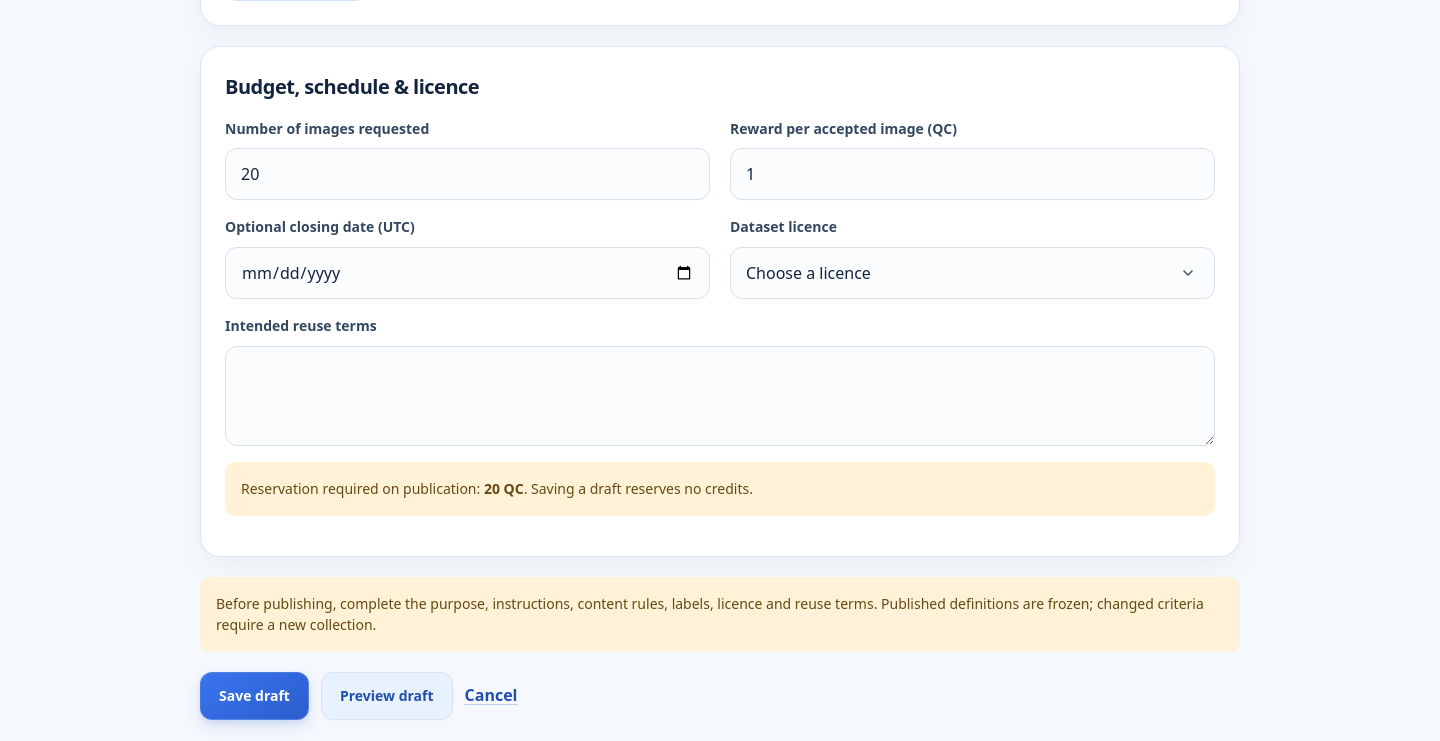
Test: edits with the expected version and displays backend funding errors
The image size is (1440, 741).
(page scrolled)
What coordinates should you click on to do the following:
click the button "Save draft"
I would click on:
 (254, 696)
Its box is [200, 672, 309, 720].
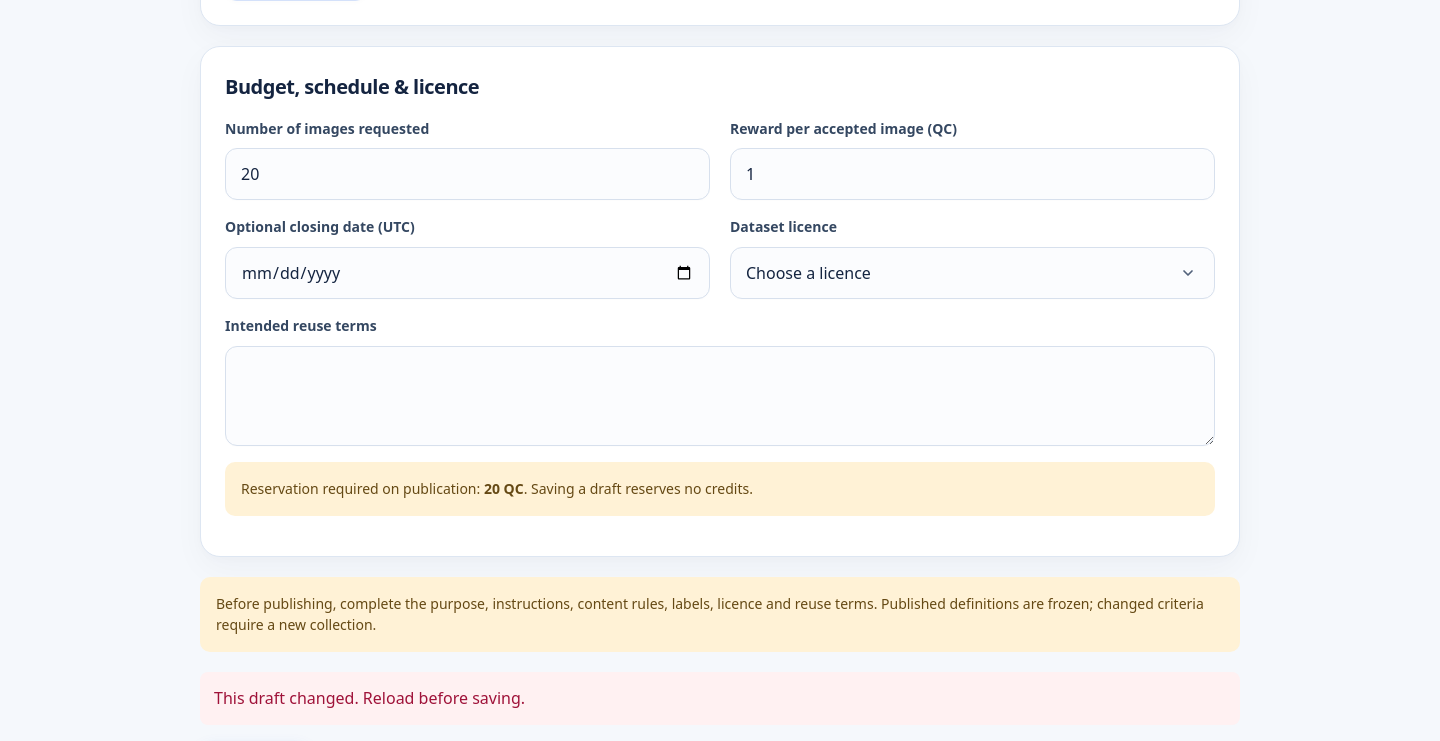
Expected: the message shows "This draft changed", [214, 687, 525, 709]
